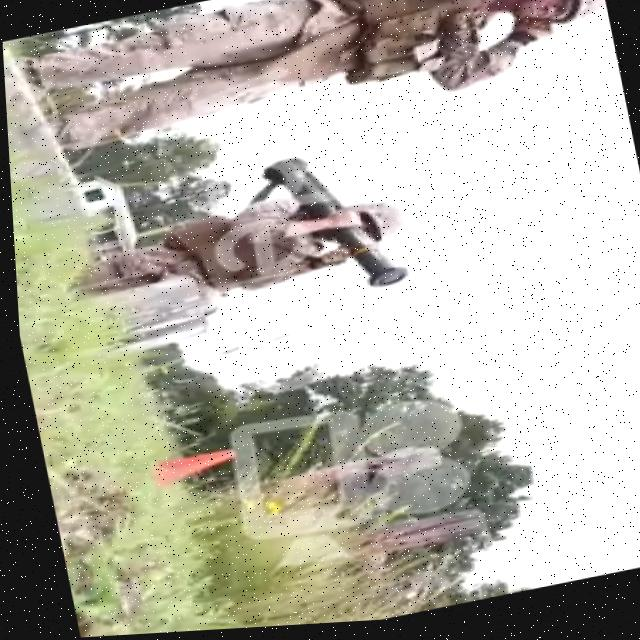rocket: (242, 141, 412, 316)
